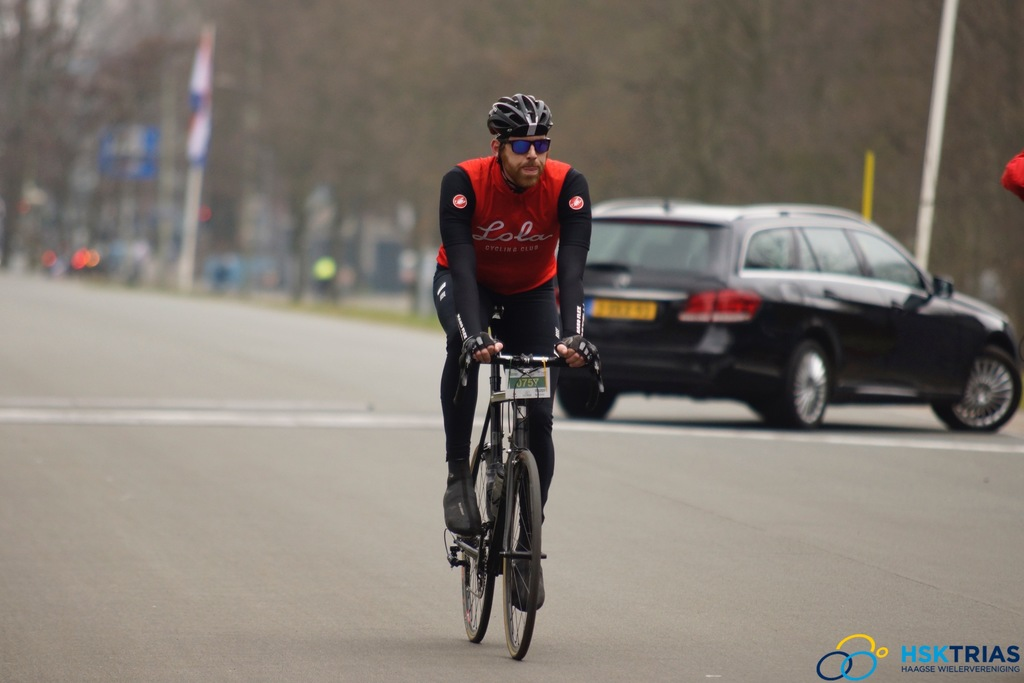Car: (552, 194, 1023, 434)
